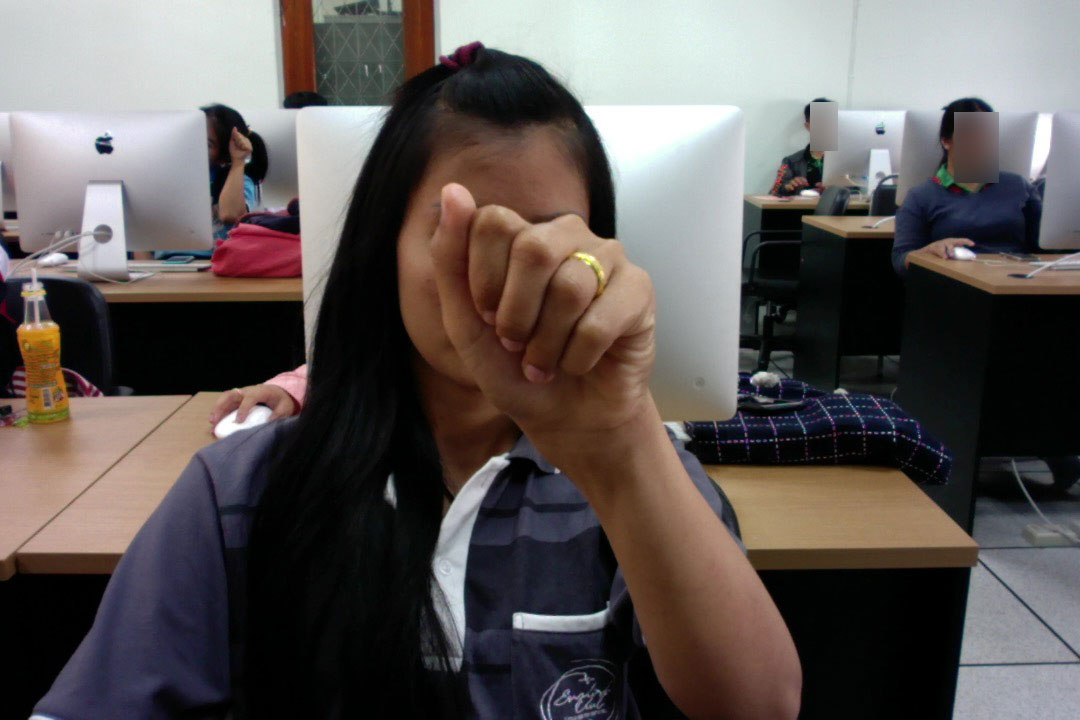or: (420, 174, 667, 470)
